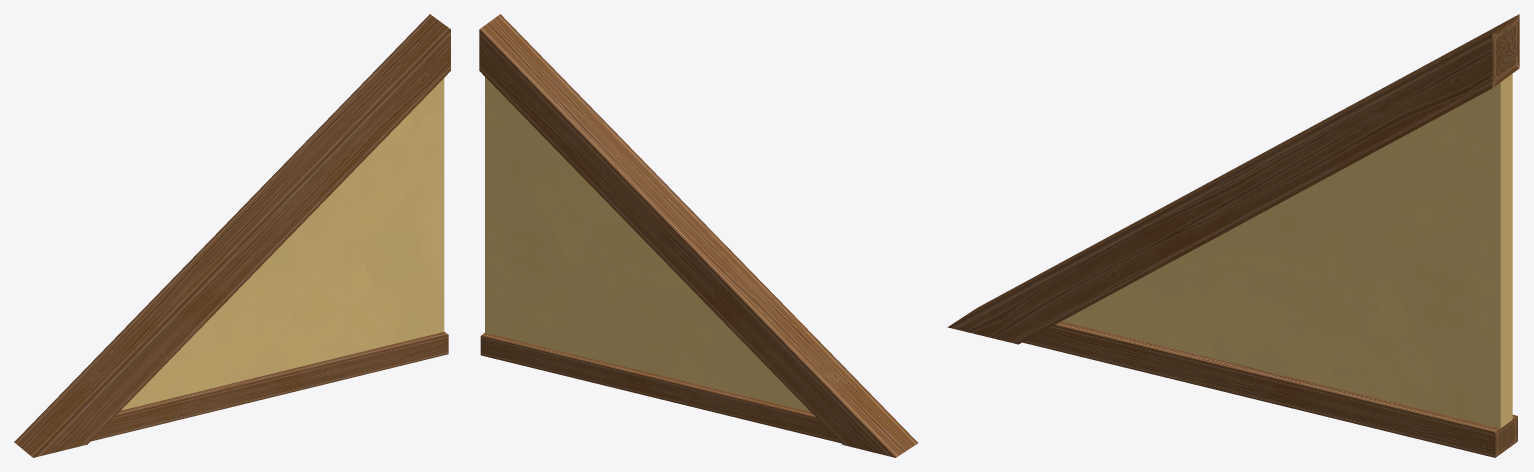
Rendered from SM_Roof_Wall_wsand.glb.
3 views of the same model, side by side, from view 1: azimuth 30°, elevation 25°; view 2: azimuth 150°, elevation 25°; view 3: azimuth 330°, elevation 25° (orthographic). The views are drawn at different scales.
Visible parts, largest first — view 1: SM_Roof_Wall; view 2: SM_Roof_Wall; view 3: SM_Roof_Wall.
Part boxes in pixels (left/top/right/bottom): SM_Roof_Wall: left=14, top=14, right=450, bottom=457; SM_Roof_Wall: left=479, top=14, right=917, bottom=457; SM_Roof_Wall: left=947, top=14, right=1519, bottom=457.
Size of the model in its own units: 4.02 by 3.01 by 0.349.
Materials: 2 (2 with a texture image).
